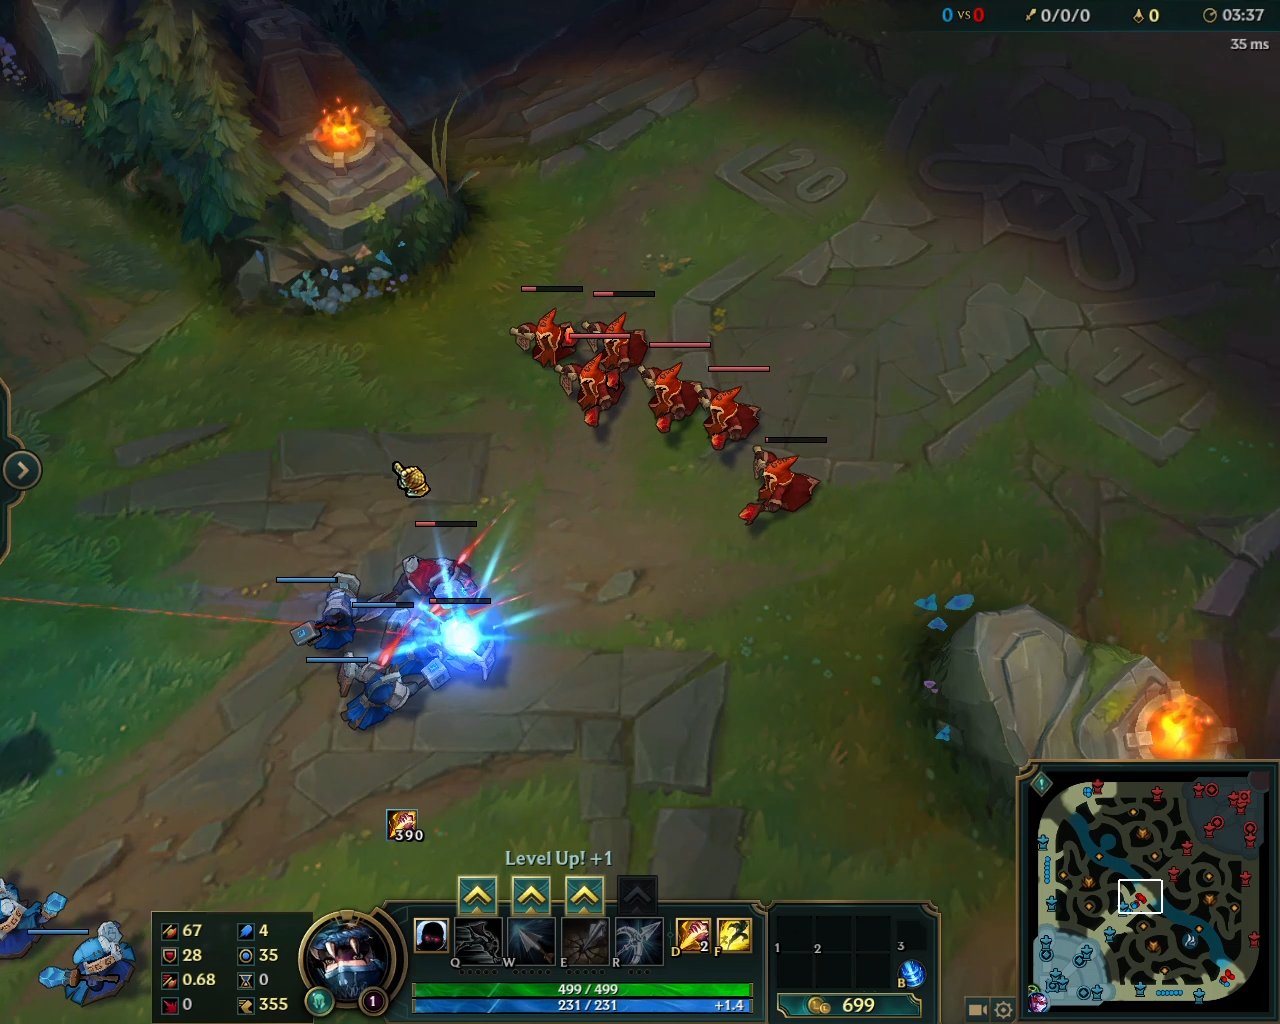EnemyMinion: (396, 517, 480, 611), (552, 333, 631, 430), (741, 436, 824, 520), (636, 342, 709, 435), (507, 284, 585, 370), (698, 365, 771, 452), (583, 288, 656, 371)
